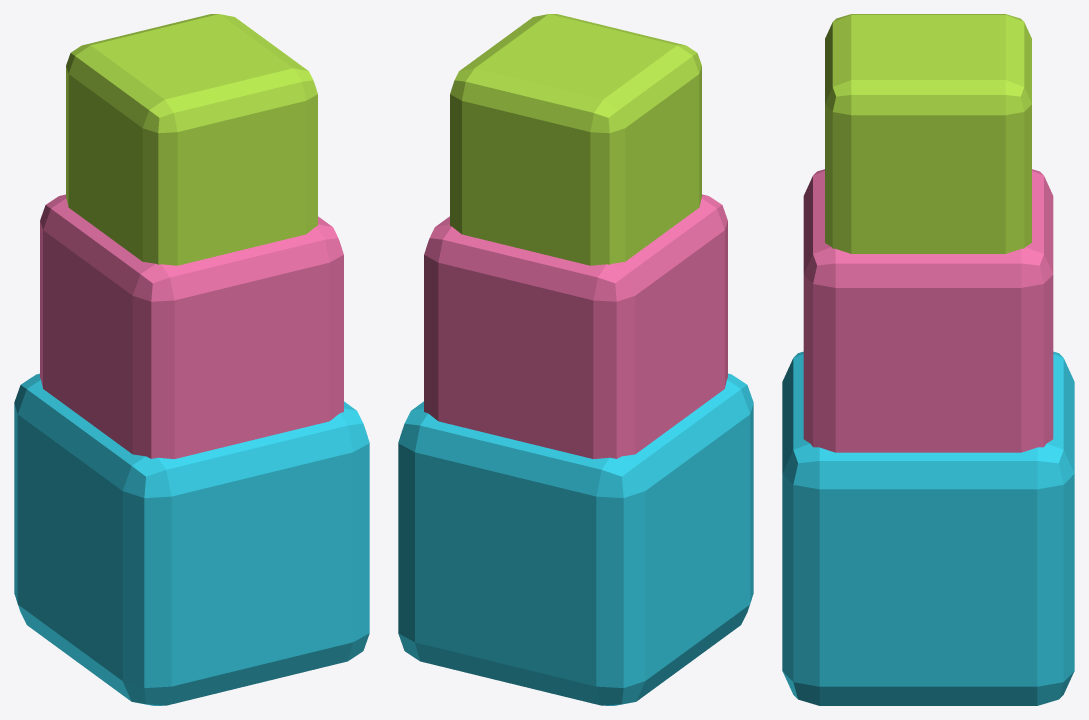
Rendered from jelly_tower.glb.
The picture shows the model from 3 angles, left to right: view 1: azimuth 30°, elevation 25°; view 2: azimuth 150°, elevation 25°; view 3: azimuth 270°, elevation 25°; orthographic projection. The views are drawn at different scales.
Visible parts, largest first — view 1: jelly_tower; view 2: jelly_tower; view 3: jelly_tower.
Boxes of the visible parts, x1=… form: jelly_tower: x1=14, y1=14, x2=369, y2=705; jelly_tower: x1=398, y1=14, x2=753, y2=705; jelly_tower: x1=782, y1=14, x2=1074, y2=705.
Size of the model in its own units: 1.1 by 2.54 by 1.1.
